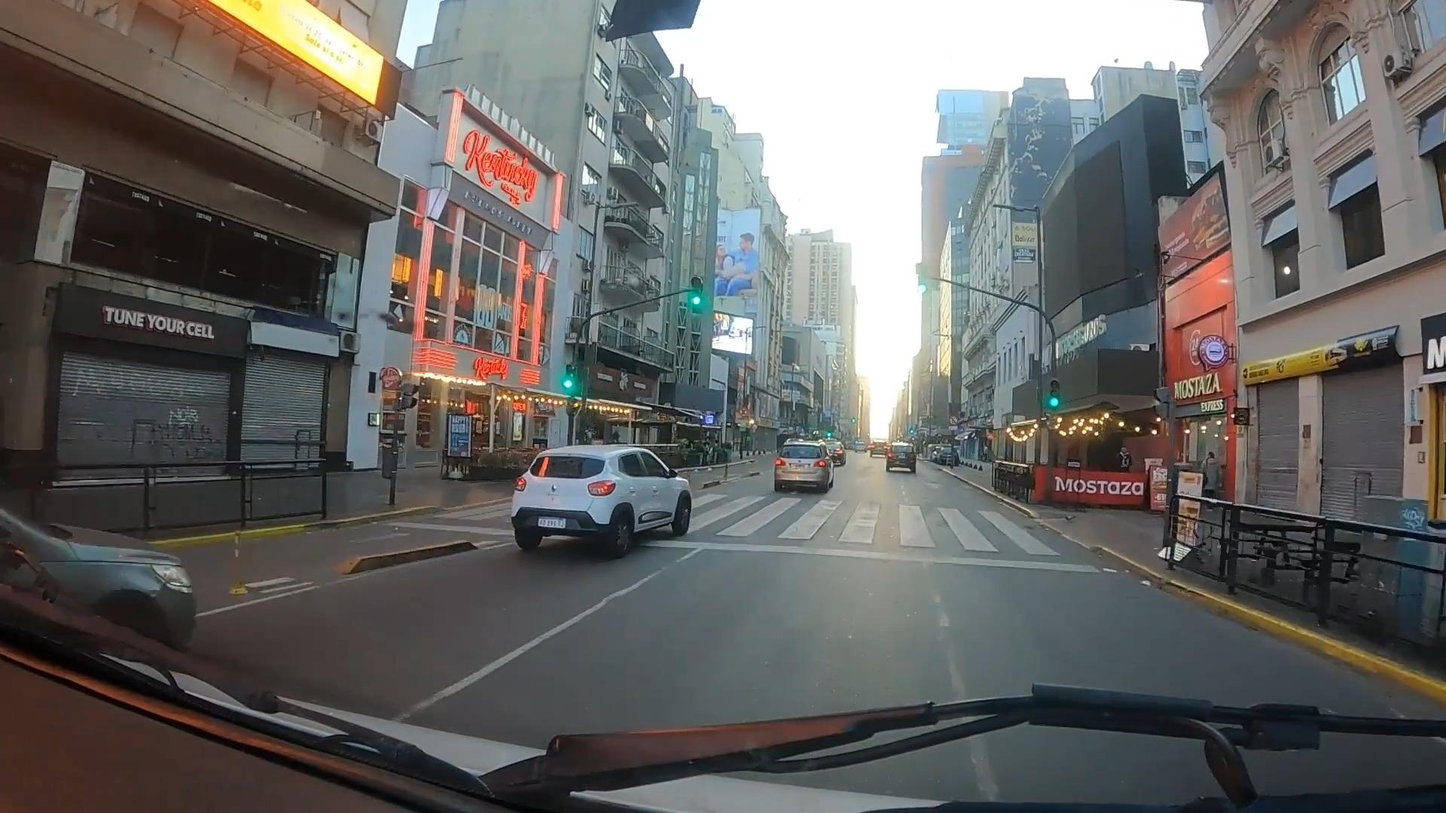dry: (205, 448, 1445, 733)
